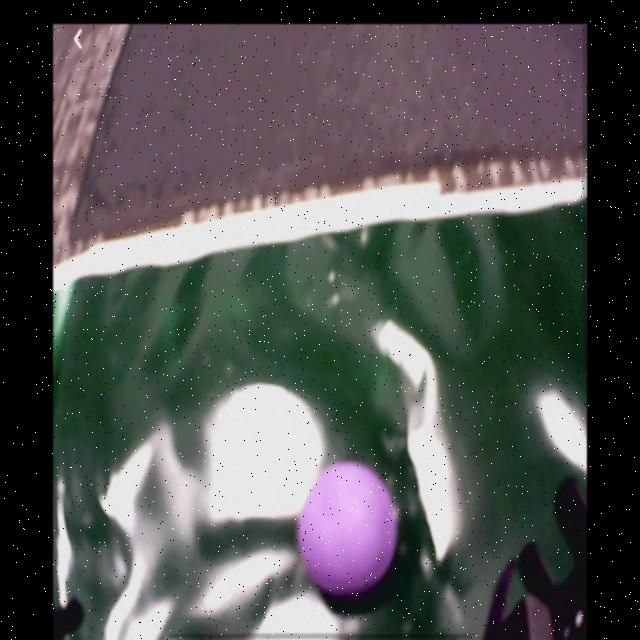ball: (297, 462, 397, 594)
